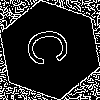C: (25, 25, 79, 68)
